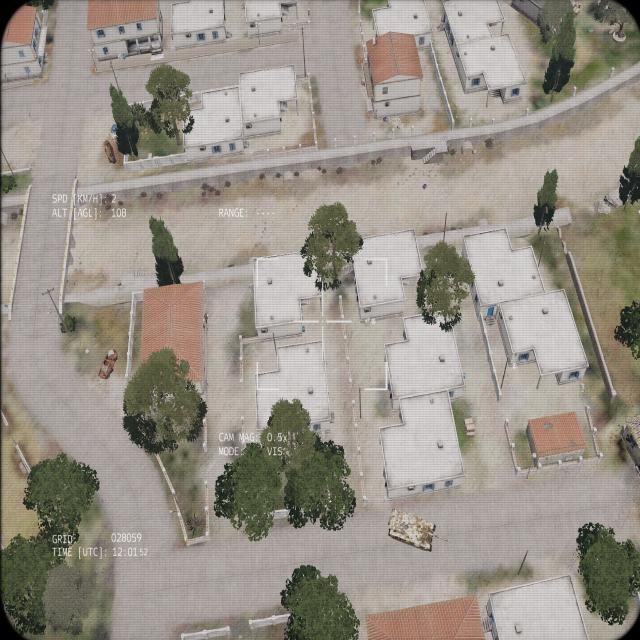tank: (385, 507, 452, 556)
